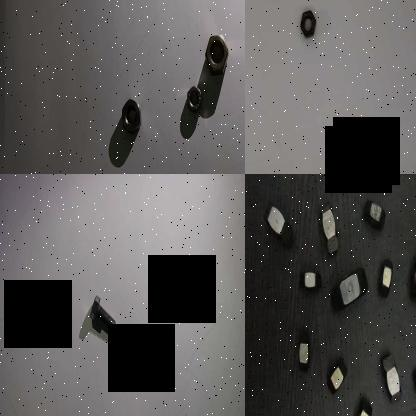Bolts: (82, 290, 120, 336)
NUTS: (260, 193, 298, 259), (329, 268, 371, 320), (314, 196, 342, 262), (375, 352, 408, 408), (204, 27, 232, 78), (360, 197, 388, 237), (326, 356, 350, 396), (120, 97, 142, 139), (376, 254, 394, 302), (404, 245, 416, 315), (298, 266, 322, 298), (294, 331, 312, 373), (299, 8, 319, 42), (349, 395, 375, 416), (411, 367, 416, 409)
